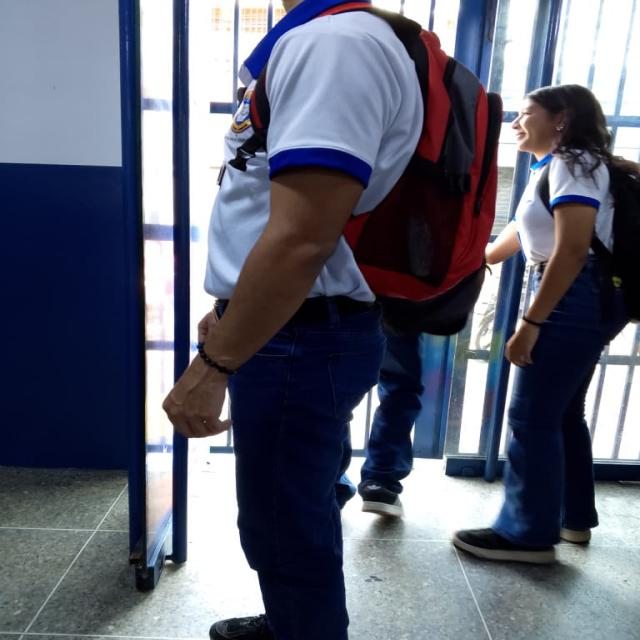pantalon_oscuro: (228, 313, 385, 633)
uniforme_superior: (204, 0, 423, 302)
